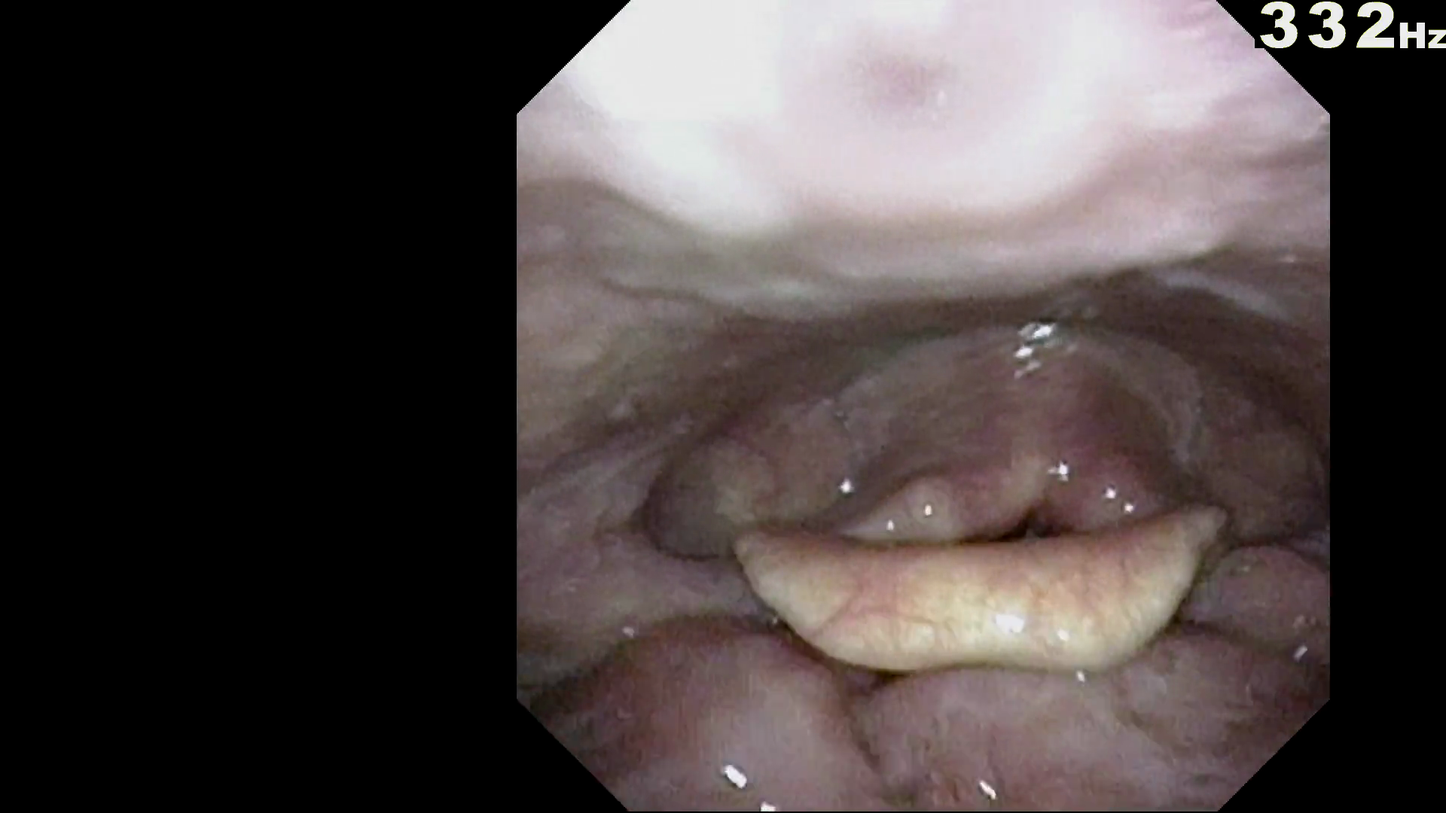epiglottis: (718, 528, 1259, 667)
trachea: (974, 485, 1092, 574)
